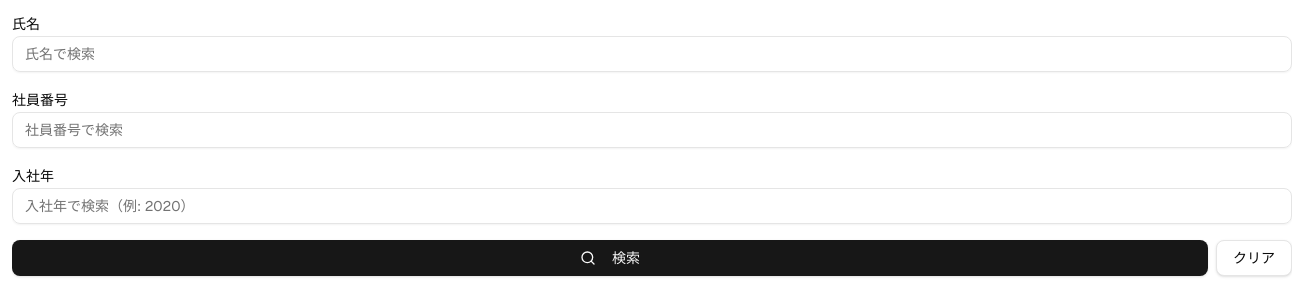
Test case: SearchForm › フォーム入力が正しく動作する
// 氏名フィールドに入力して検証
Click the field labelled "氏名".
click(652, 54)  # box [12,36,1292,72]
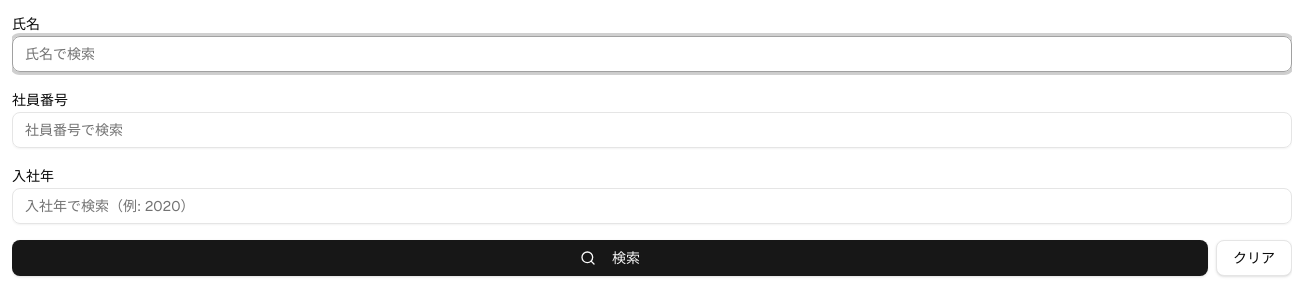
Type keys "鈴木花子"
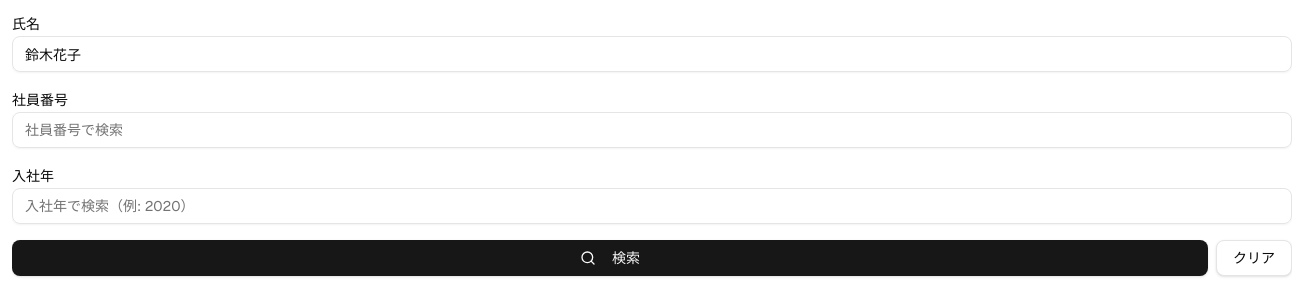
Expected: the field labelled "氏名" holds "鈴木花子", [12,36,1292,72]
